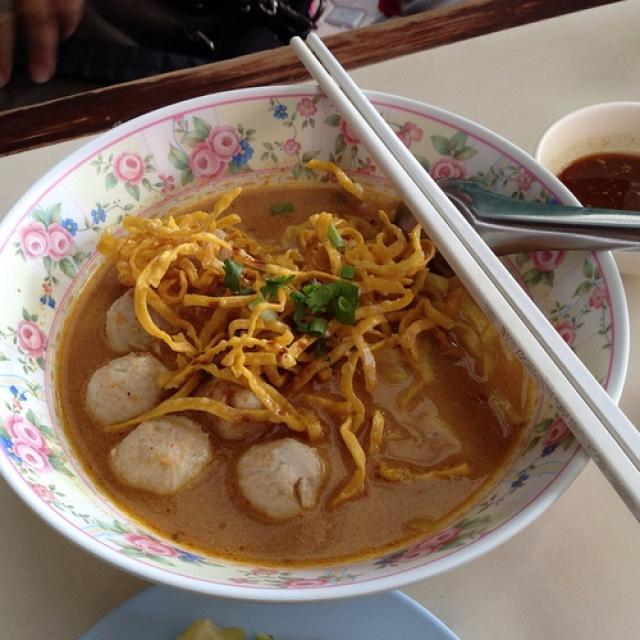面条主食: (26, 74, 620, 596)
